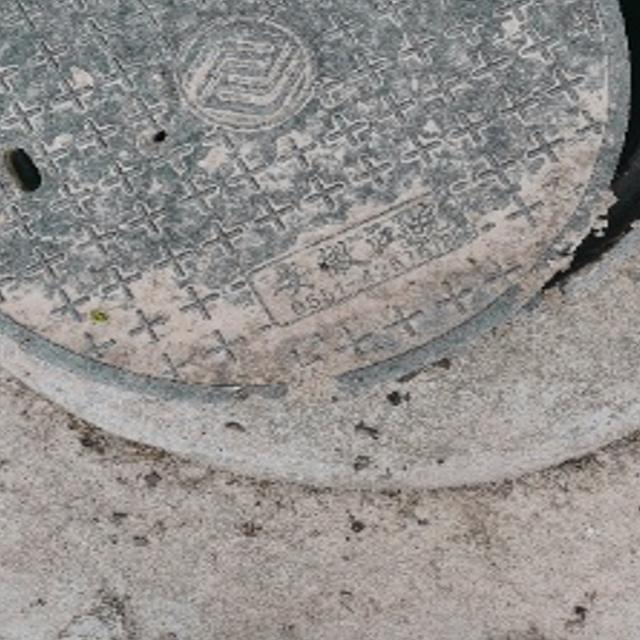uncovered: (0, 0, 640, 396)
